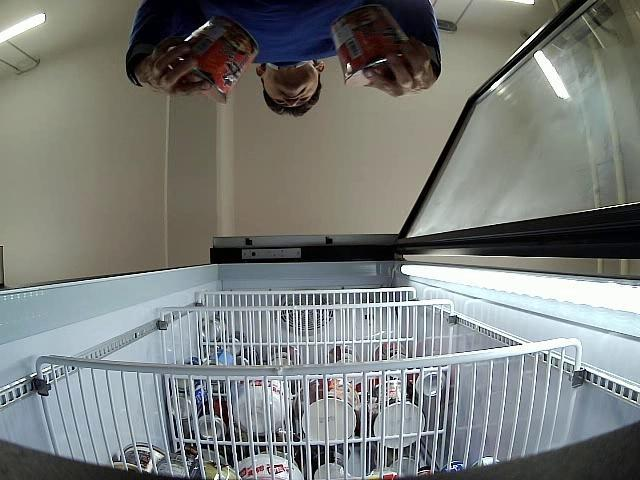01_ShinRamen_L: (182, 16, 260, 104), (331, 5, 410, 88)
